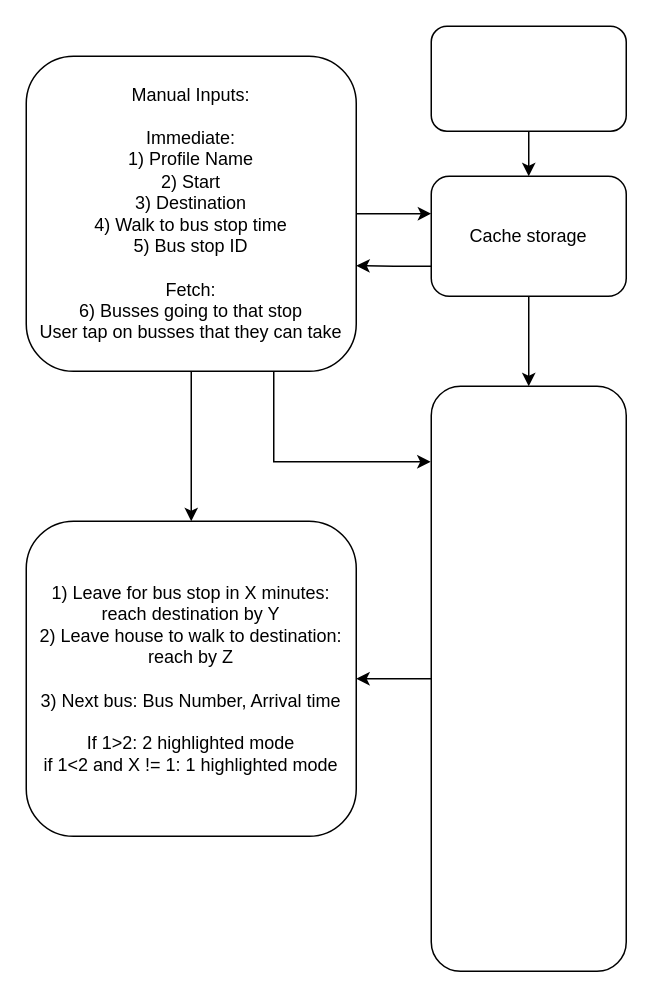
The diagram is 653 pixels wide and 998 high, and some of its shapes have lost their labels. The shapes that lost their labels are listed below. From the top down, each one's centre as x and y in pixels, then its label:
At (x=528, y=78): "GET LTA API Store data in local cache".
At (x=528, y=678): "BACKEND".
